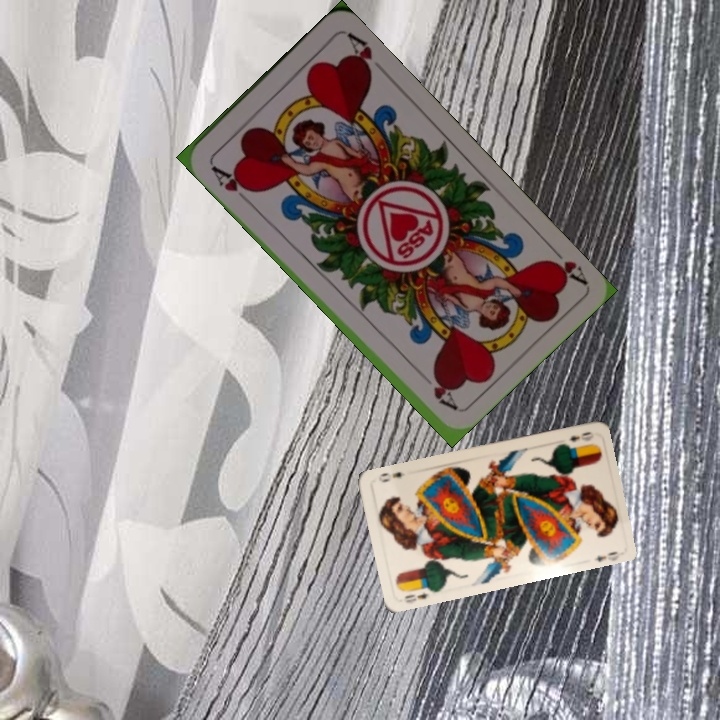EO: (397, 582, 437, 606), (565, 428, 596, 445)
HA: (541, 239, 589, 287), (206, 158, 257, 197)
